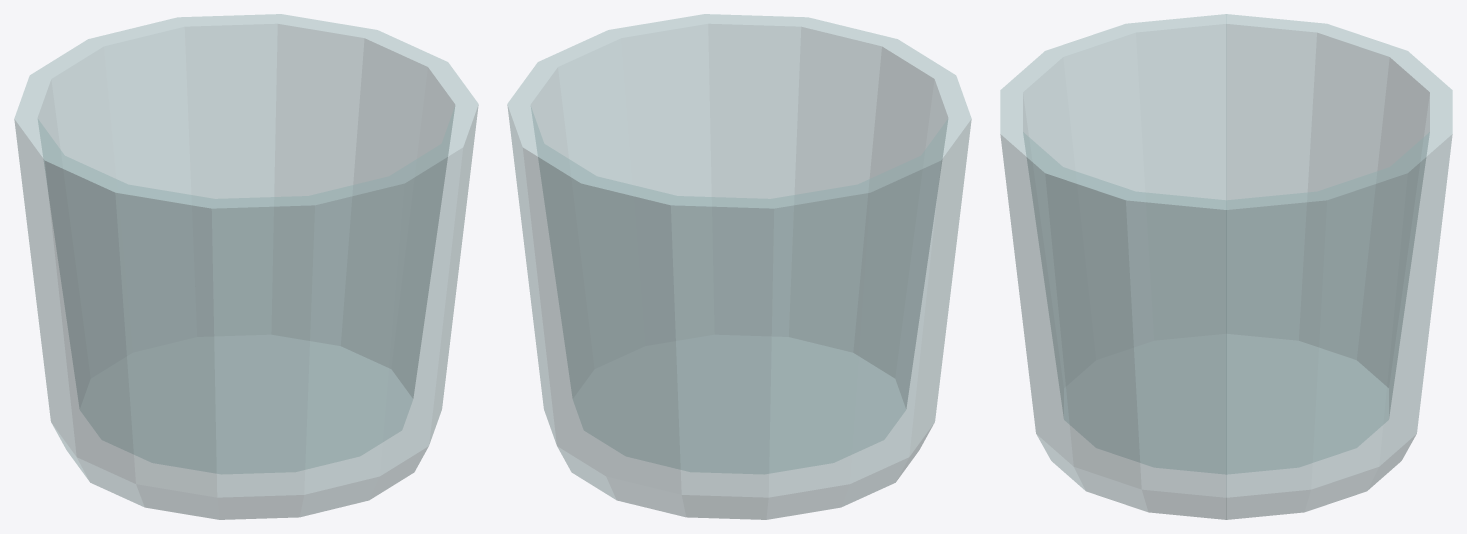
File: shot_glass.glb
The picture shows the model from 3 angles, left to right: view 1: azimuth 30°, elevation 25°; view 2: azimuth 150°, elevation 25°; view 3: azimuth 270°, elevation 25°; orthographic projection.
Visible parts, largest first — view 1: block_hollow cup bowl; view 2: block_hollow cup bowl; view 3: block_hollow cup bowl.
Part boxes in pixels (x1,y1,x2,y2): block_hollow cup bowl: (14, 14, 478, 519); block_hollow cup bowl: (507, 14, 971, 519); block_hollow cup bowl: (1000, 14, 1452, 519).
Size of the model in its own units: 0.058 by 0.0458 by 0.0565.
Materials: 1 (1 with a texture image).
